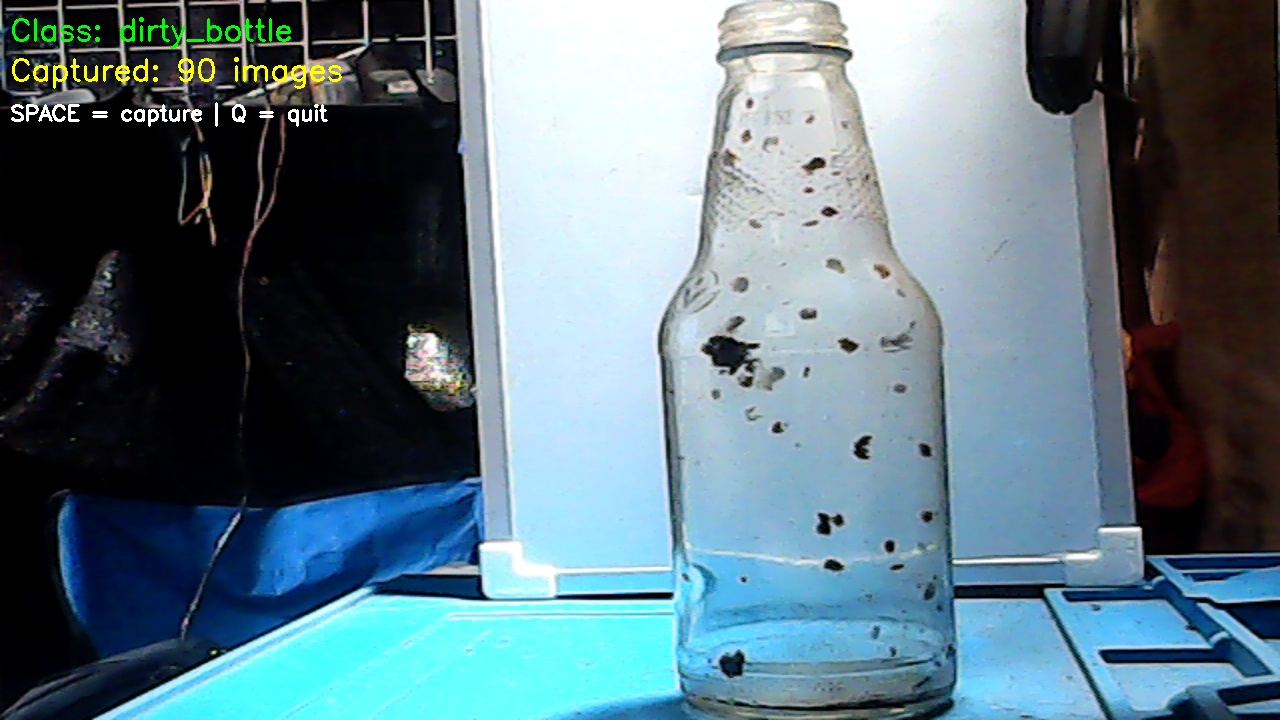dirty_bottle: (649, 3, 970, 715)
